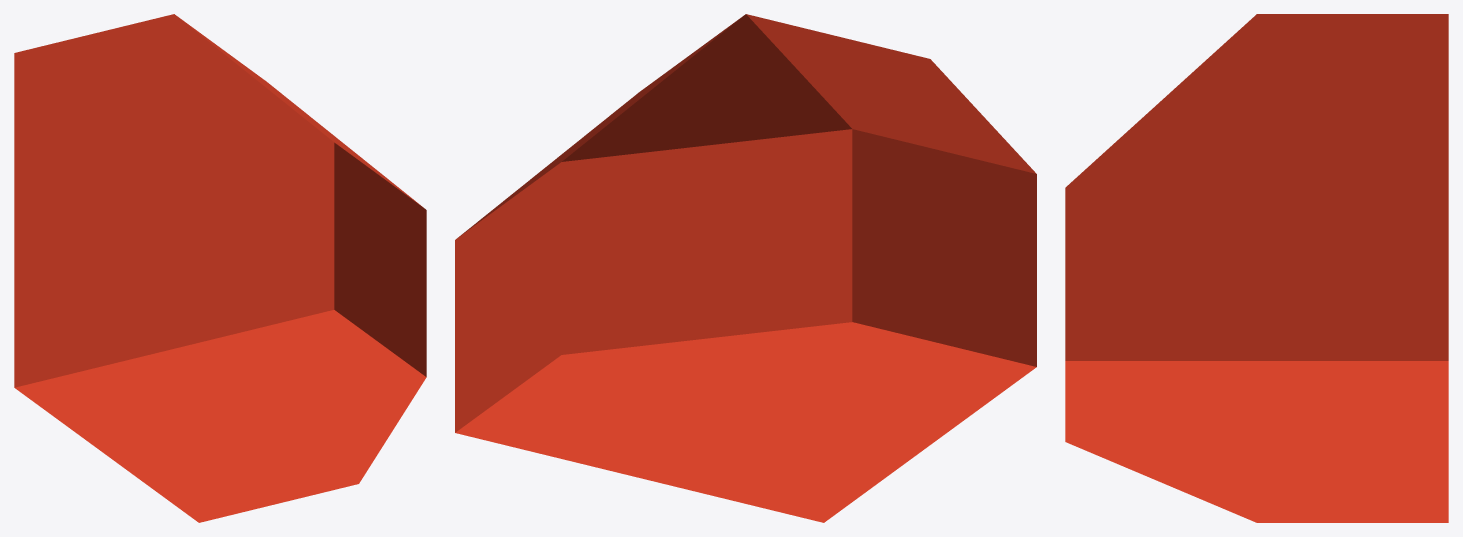
File: r5c6_border_red.gltf
3 renders of one model, left to right at view 1: azimuth 30°, elevation 25°; view 2: azimuth 150°, elevation 25°; view 3: azimuth 270°, elevation 25°, orthographic. The views are drawn at different scales.
Visible parts, largest first — view 1: r5c6_border_red; view 2: r5c6_border_red; view 3: r5c6_border_red.
Boxes of the visible parts, x1,y1,x2,y2 form: r5c6_border_red: (14,14,426,522); r5c6_border_red: (455,14,1036,522); r5c6_border_red: (1065,14,1448,522).
Size of the model in its own units: 2.1 by 2.1 by 2.1.
Materials: 1 (1 with a texture image).
